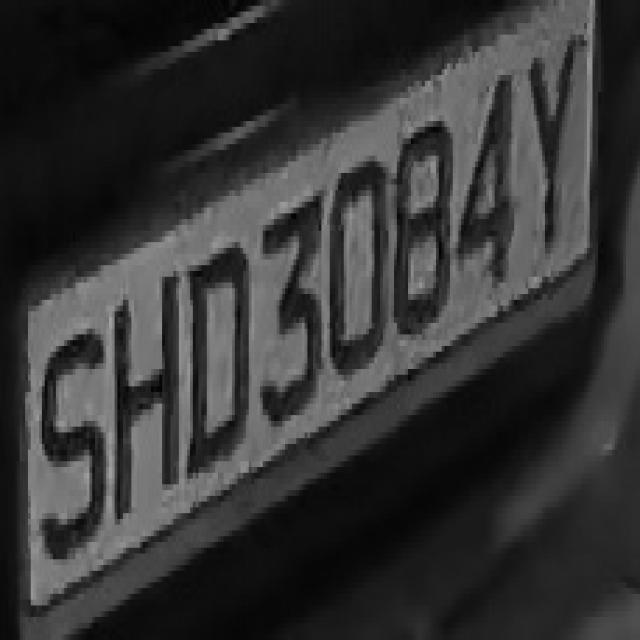0: (316, 162, 397, 392)
3: (254, 196, 324, 444)
4: (456, 75, 522, 288)
8: (388, 86, 453, 358)
D: (179, 242, 257, 490)
H: (106, 248, 190, 519)
S: (31, 306, 106, 588)
Y: (523, 23, 584, 271)
